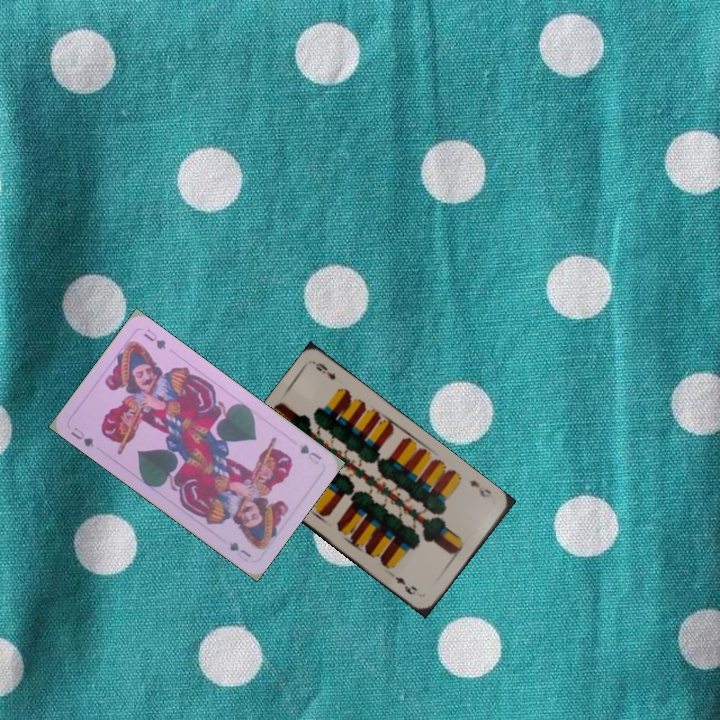E9: (466, 476, 495, 503)
GU: (66, 423, 96, 450), (295, 440, 324, 467)
